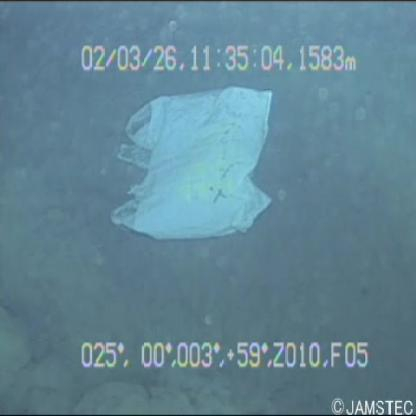Rác: (110, 81, 283, 255)
